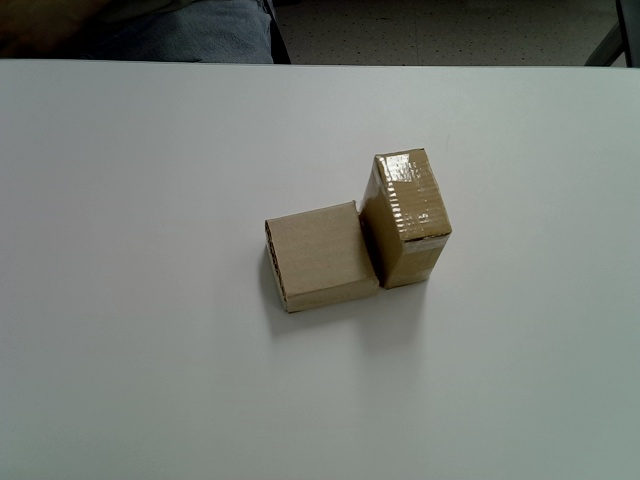normal: (358, 148, 452, 290), (265, 199, 380, 313)
